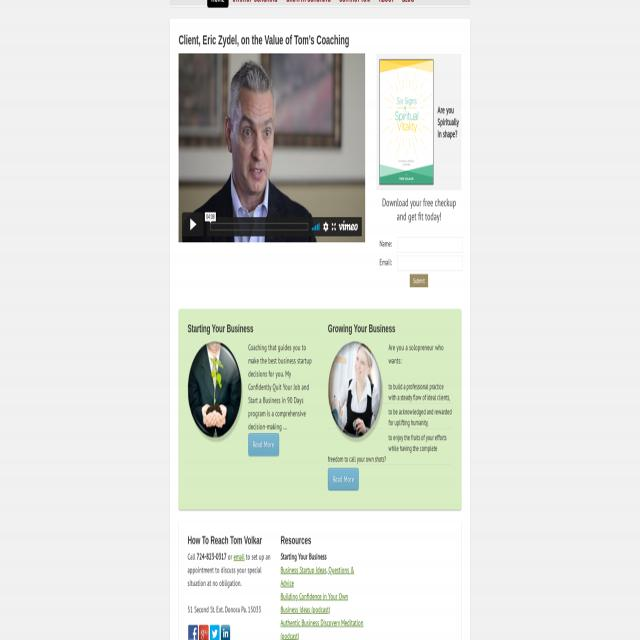button: (179, 53, 365, 243), (379, 59, 434, 184), (188, 341, 244, 443), (328, 341, 384, 443), (248, 433, 279, 456), (328, 468, 359, 491), (183, 211, 204, 238), (338, 218, 361, 234), (410, 274, 428, 287), (188, 624, 198, 640), (209, 624, 219, 640), (199, 625, 209, 640), (321, 218, 330, 234), (330, 218, 338, 235), (311, 218, 320, 233), (221, 625, 230, 640)
field: (398, 237, 462, 252), (398, 256, 462, 271)
